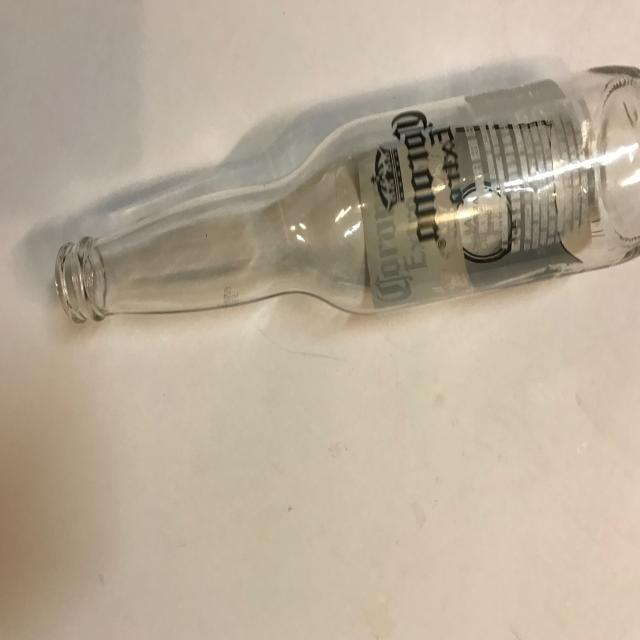glass: (54, 62, 640, 326)
